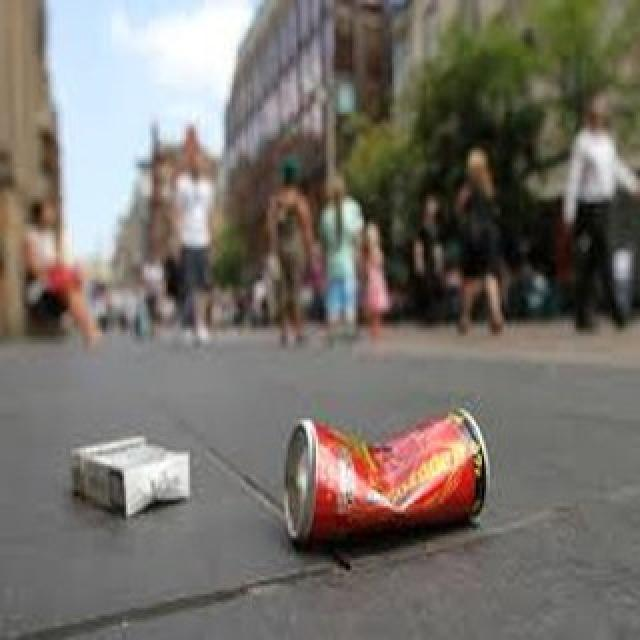Anorganik: (278, 402, 513, 545)
